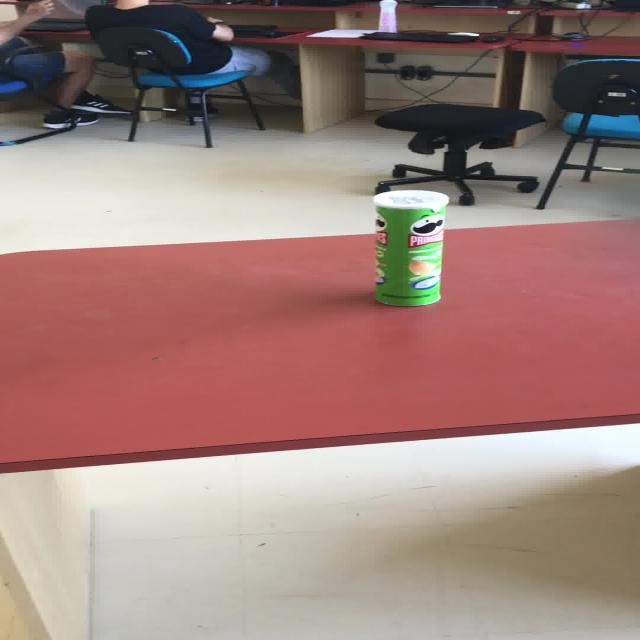pringles: (371, 189, 448, 306)
